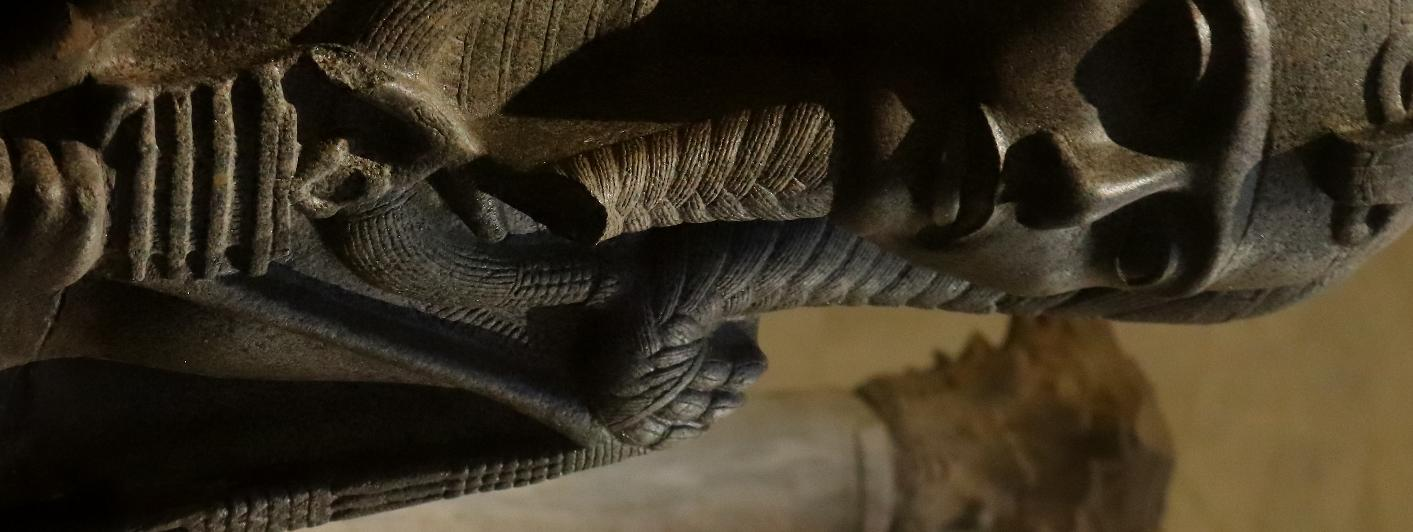Khonsu: (0, 0, 819, 532)
